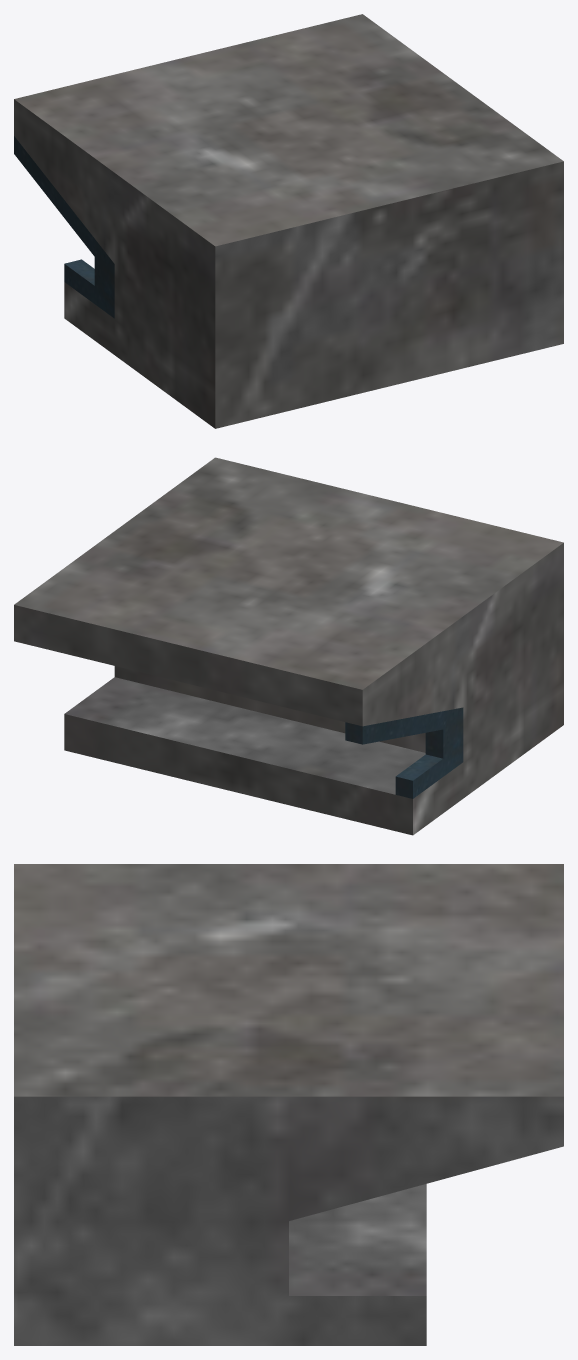
File: ConsoleModuleSide.fbx
3 views of the same model, one above another, from view 1: azimuth 30°, elevation 25°; view 2: azimuth 150°, elevation 25°; view 3: azimuth 270°, elevation 25° (orthographic). The views are drawn at different scales.
Parts seen in each view (by area): view 1: Console Module Side; view 2: Console Module Side; view 3: Console Module Side.
Part boxes in pixels (left/top/right/bottom): Console Module Side: left=14, top=14, right=563, bottom=428; Console Module Side: left=14, top=457, right=563, bottom=835; Console Module Side: left=14, top=864, right=563, bottom=1345.
Bounding box in the file's own units: 2.4 × 2.4 × 1.2.
2 materials, 2 textured.
